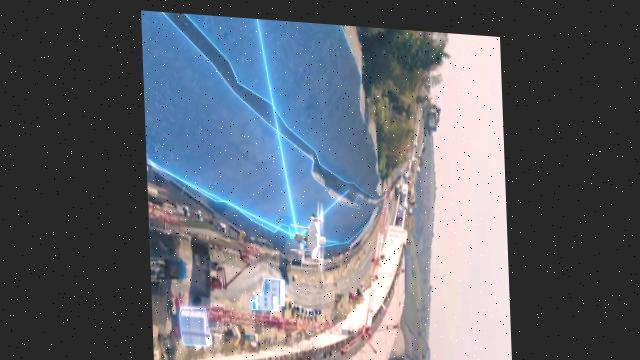drone: (286, 193, 327, 278)
